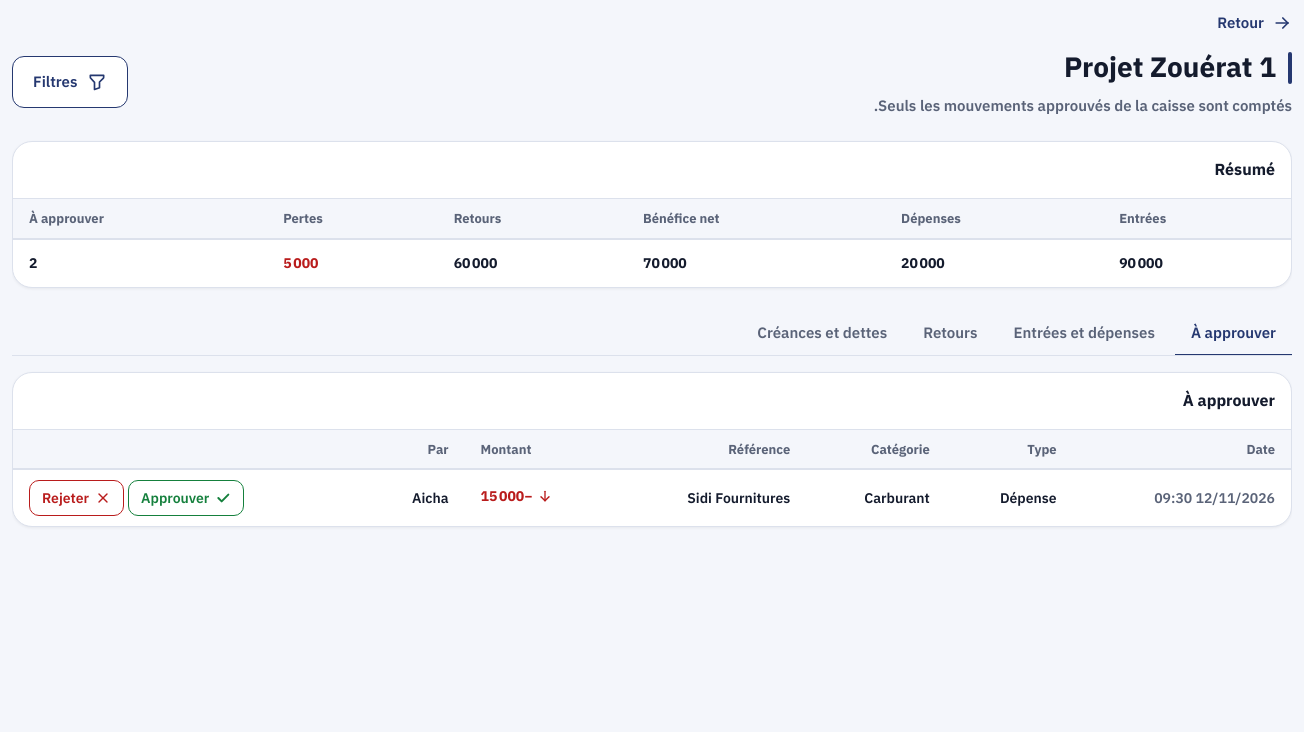
it: AccountingProjectScreen review › shows what the project's customers owe and what it owes its suppliers
Click the tab "Créances et dettes" at point(822, 334), box [741,312,903,356]
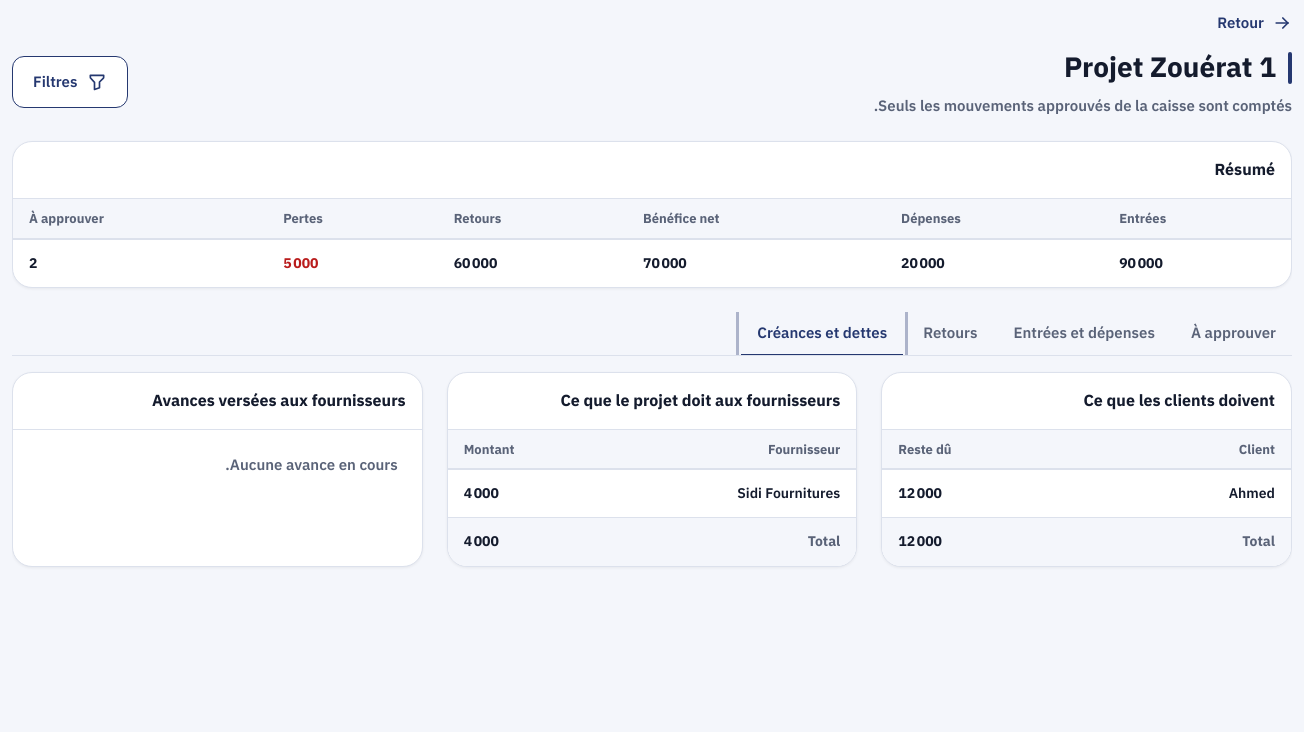
Check: the text "Sidi Fournitures" is shown, box [737,483,840,504]
Check: the heading "Ce que les clients doivent" is shown, box [1083,388,1275,412]
Check: the text "Aucune avance en cours." is shown, box [225,454,398,476]
